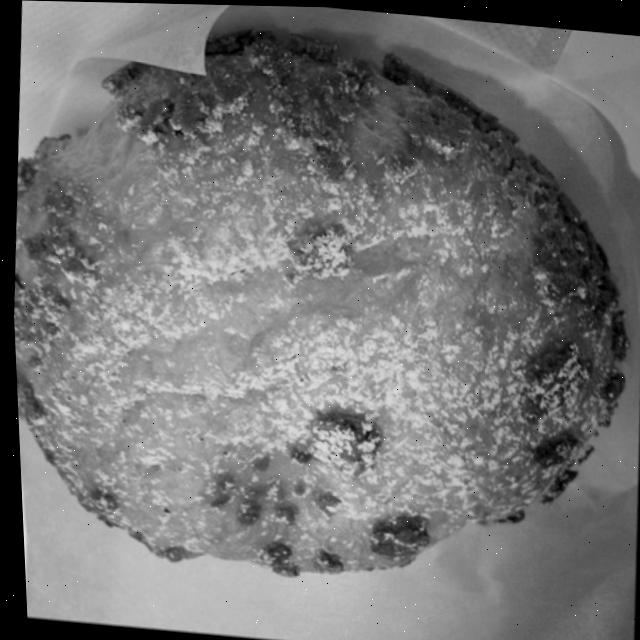炸货点心: (0, 6, 640, 624)
蛋糕甜品: (0, 6, 640, 624)
